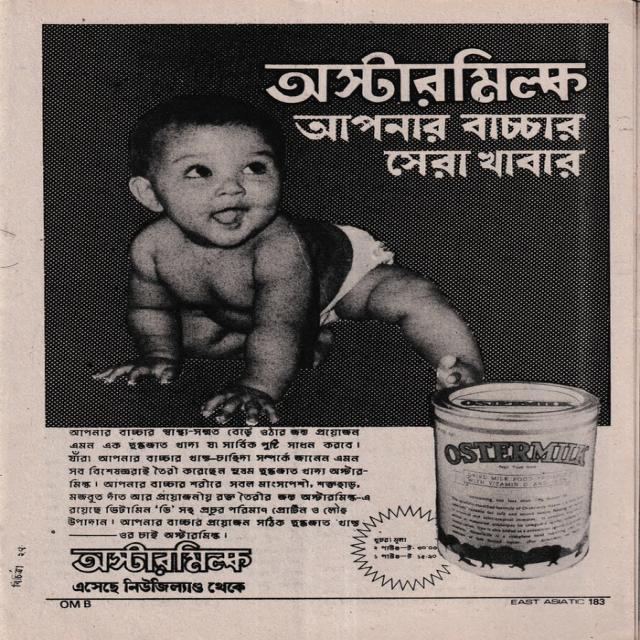advertisement: (35, 24, 623, 617)
page number: (11, 543, 32, 561)
text: (10, 564, 25, 588)
